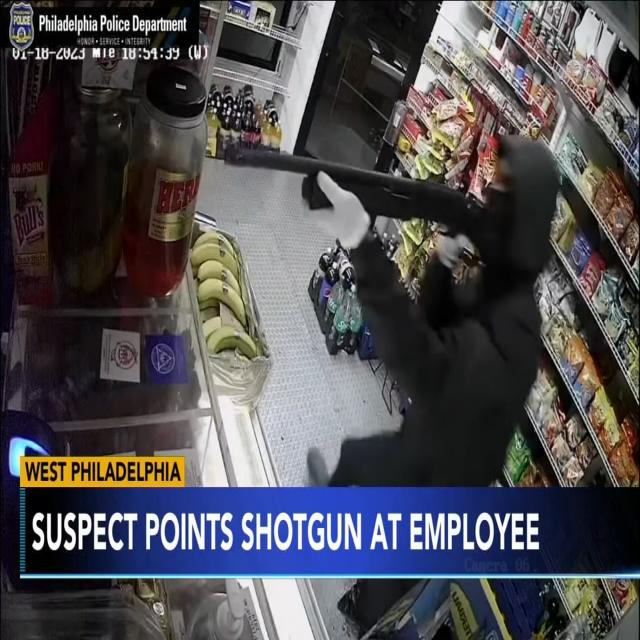heavy-weapon: (228, 132, 474, 256)
